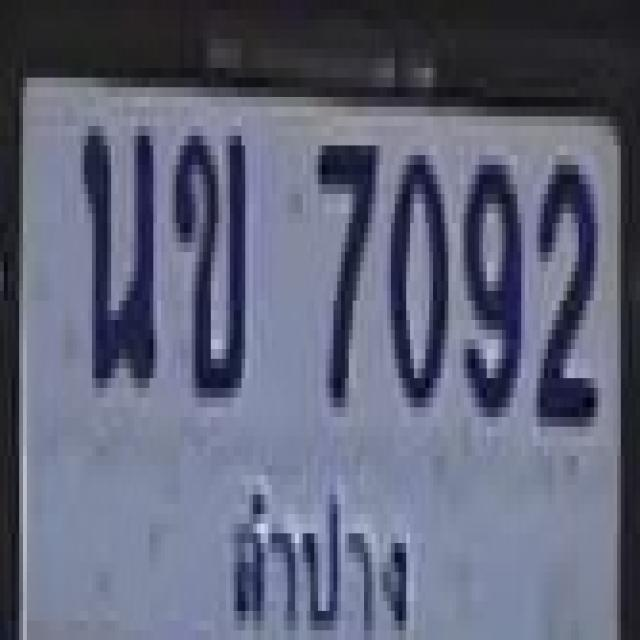-: (78, 116, 152, 378), (172, 126, 242, 388)
0: (387, 146, 445, 398)
2: (533, 155, 590, 417)
7: (314, 136, 372, 398)
9: (460, 155, 517, 407)
LPG: (218, 456, 418, 640)
